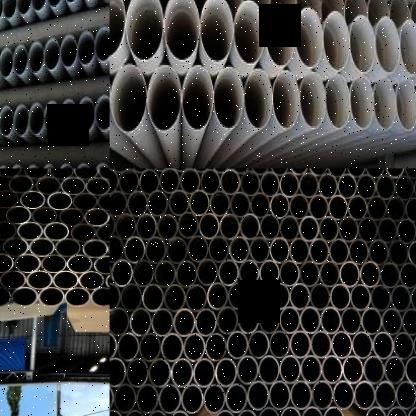pipe: (111, 64, 147, 132), (147, 64, 182, 132), (163, 0, 200, 60), (126, 0, 163, 60), (200, 0, 234, 63), (233, 0, 265, 64), (182, 64, 213, 130), (213, 67, 244, 130), (266, 4, 295, 67), (295, 6, 324, 68), (244, 68, 273, 130), (349, 14, 376, 74), (323, 11, 350, 70), (273, 70, 299, 130), (300, 72, 326, 130), (375, 16, 400, 74), (326, 76, 351, 129), (350, 76, 374, 129), (374, 79, 396, 130), (394, 80, 416, 130), (400, 19, 416, 75), (110, 0, 124, 59), (138, 332, 162, 363), (158, 384, 182, 415), (148, 358, 172, 389), (225, 383, 248, 415), (332, 379, 355, 411), (126, 357, 149, 389), (215, 357, 238, 389), (183, 332, 206, 363), (181, 384, 204, 415), (203, 384, 226, 415), (136, 384, 159, 415), (114, 384, 137, 415), (268, 380, 291, 411), (290, 380, 313, 411), (247, 380, 269, 412), (117, 332, 140, 362), (129, 307, 152, 337), (237, 305, 260, 335), (185, 283, 208, 313), (154, 259, 177, 289), (236, 356, 259, 386), (161, 332, 183, 363), (171, 358, 193, 389), (193, 358, 215, 389), (151, 308, 174, 337), (216, 306, 239, 335), (120, 283, 143, 312), (175, 259, 198, 288), (132, 259, 155, 288), (196, 258, 219, 287), (383, 356, 406, 385), (205, 332, 227, 362), (331, 330, 353, 360), (195, 307, 217, 337), (279, 305, 301, 335), (164, 283, 186, 313), (142, 283, 164, 313), (311, 380, 333, 410), (363, 355, 385, 385), (258, 355, 280, 385), (342, 355, 364, 385), (321, 355, 343, 385), (279, 355, 301, 385), (300, 355, 322, 385), (227, 330, 248, 361), (77, 96, 95, 132), (76, 31, 95, 65), (144, 236, 167, 264), (156, 213, 179, 241), (372, 331, 394, 360), (351, 331, 373, 360), (310, 330, 332, 359), (173, 308, 195, 337), (381, 307, 403, 336), (320, 306, 342, 335), (248, 282, 270, 311), (124, 235, 146, 264), (354, 381, 376, 410), (394, 380, 416, 409), (60, 98, 78, 133), (248, 330, 269, 360), (109, 307, 130, 337), (259, 305, 280, 335), (112, 258, 133, 288), (340, 307, 362, 335), (370, 284, 392, 312), (309, 283, 331, 311), (238, 259, 260, 287), (166, 236, 188, 264), (187, 235, 209, 263), (115, 213, 137, 241), (219, 213, 241, 241), (177, 212, 199, 240), (168, 189, 190, 217), (269, 330, 290, 359), (290, 330, 311, 359), (300, 306, 321, 335), (330, 283, 351, 312), (269, 282, 290, 311), (207, 282, 228, 311), (228, 282, 249, 311), (229, 235, 250, 264), (375, 381, 396, 410), (60, 34, 78, 67), (239, 214, 261, 241), (198, 213, 220, 240), (209, 190, 231, 217), (147, 190, 169, 217), (179, 168, 201, 195), (393, 332, 414, 360), (350, 284, 371, 312), (299, 260, 320, 288), (259, 259, 280, 287), (348, 238, 369, 266), (289, 237, 310, 265), (269, 236, 290, 264), (249, 236, 270, 264), (208, 235, 229, 263), (279, 215, 300, 243), (136, 213, 157, 241), (289, 193, 310, 221), (391, 284, 411, 313), (118, 169, 140, 195), (158, 168, 180, 194), (31, 205, 58, 226), (64, 287, 91, 308), (14, 253, 41, 274), (360, 261, 381, 288), (339, 261, 360, 288), (279, 260, 300, 287), (218, 259, 239, 286), (338, 216, 359, 243), (318, 216, 339, 243), (308, 194, 329, 221), (250, 192, 271, 219), (189, 190, 210, 217), (279, 171, 300, 198), (240, 170, 261, 197), (94, 95, 110, 130), (94, 26, 110, 61), (54, 238, 82, 258), (37, 287, 65, 307), (362, 307, 382, 335), (290, 283, 310, 311), (380, 261, 400, 289), (320, 260, 340, 288), (389, 239, 409, 267), (369, 238, 389, 266), (309, 237, 329, 265), (299, 215, 319, 243), (260, 214, 280, 242), (230, 191, 250, 219), (128, 190, 148, 218), (67, 254, 93, 275), (0, 269, 26, 290), (79, 270, 105, 291), (377, 218, 398, 244), (347, 195, 368, 221), (375, 174, 396, 200), (317, 173, 338, 199), (200, 169, 221, 195), (139, 169, 160, 195), (44, 100, 60, 134), (43, 222, 70, 242), (82, 239, 109, 259), (2, 237, 29, 257), (70, 223, 97, 243), (26, 270, 53, 290), (329, 238, 349, 265), (358, 217, 378, 244), (367, 195, 387, 222), (328, 194, 348, 221), (270, 193, 290, 220), (44, 38, 60, 71), (220, 170, 241, 195), (72, 192, 98, 212), (20, 190, 46, 210), (60, 176, 86, 196), (12, 287, 38, 307), (53, 270, 79, 290), (6, 205, 32, 225), (41, 254, 67, 274), (396, 218, 416, 244), (386, 196, 406, 222), (395, 175, 415, 201), (337, 173, 357, 199), (299, 172, 319, 198), (260, 171, 280, 197), (17, 222, 44, 241), (8, 175, 35, 194), (109, 190, 128, 217), (357, 173, 376, 200), (85, 176, 110, 196), (110, 357, 126, 388), (29, 238, 55, 257), (47, 192, 73, 211), (35, 176, 61, 195), (58, 208, 85, 226), (14, 104, 29, 136), (29, 102, 44, 134), (14, 44, 29, 76), (84, 208, 110, 226), (399, 262, 416, 289), (29, 41, 43, 73), (0, 104, 13, 136), (402, 307, 416, 336), (90, 287, 110, 307), (110, 235, 124, 263), (0, 48, 13, 78), (0, 189, 19, 208), (404, 355, 416, 385), (93, 255, 110, 274), (0, 221, 16, 241), (110, 282, 121, 311), (48, 168, 74, 180), (73, 168, 98, 180), (96, 223, 110, 243), (405, 197, 416, 222), (2, 0, 16, 19), (23, 168, 49, 178), (110, 168, 119, 195), (0, 254, 13, 272), (0, 287, 11, 308), (385, 406, 408, 416), (98, 192, 110, 211), (17, 0, 32, 15), (408, 239, 416, 267), (301, 406, 323, 416), (365, 406, 387, 416), (109, 331, 116, 361), (323, 406, 344, 416), (384, 168, 404, 178), (365, 168, 385, 178), (0, 168, 22, 177), (258, 407, 280, 416), (279, 407, 301, 416), (346, 168, 365, 178), (328, 168, 347, 178), (308, 168, 328, 177), (30, 0, 46, 11), (410, 284, 416, 313), (249, 168, 270, 176), (235, 409, 258, 416), (289, 168, 309, 176), (269, 168, 289, 176), (98, 168, 110, 180), (404, 168, 416, 180), (145, 410, 169, 416), (123, 410, 146, 416), (214, 410, 236, 416), (230, 168, 251, 174), (167, 411, 191, 416), (47, 0, 63, 7), (110, 212, 114, 240), (407, 406, 416, 416), (413, 332, 416, 360), (413, 175, 416, 202), (0, 0, 3, 21)
